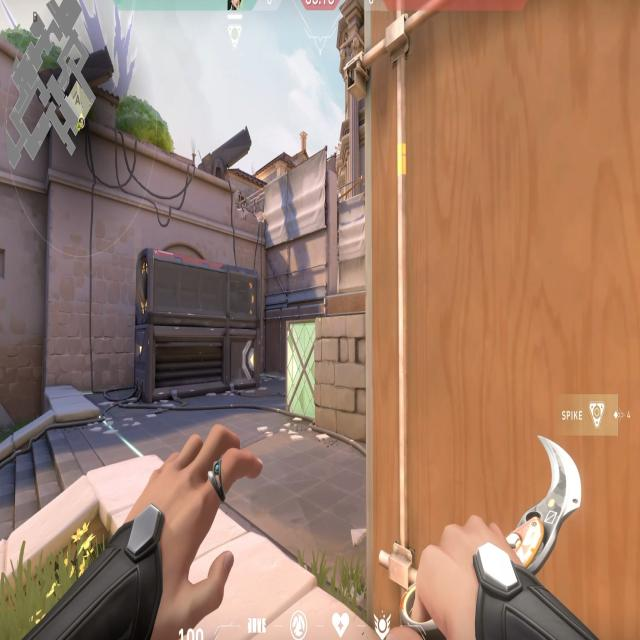A_Heaven_Wall: (260, 144, 337, 316)
A_Site_Box: (278, 306, 370, 442)
